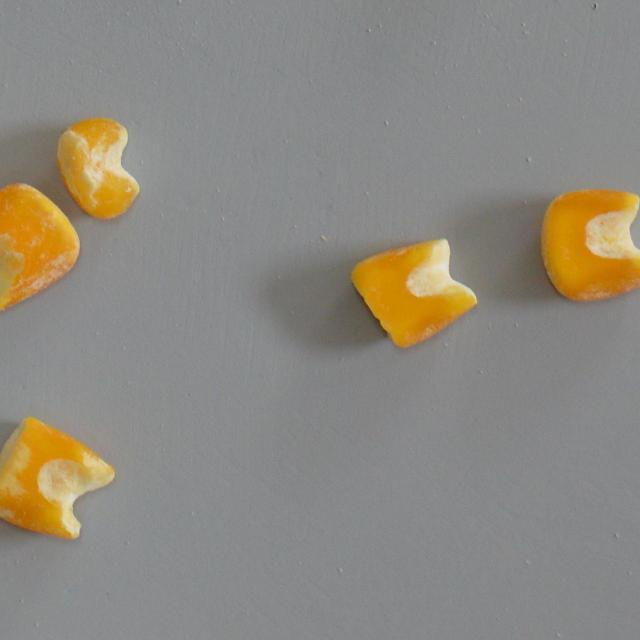dañado: (348, 228, 482, 356), (0, 410, 118, 545), (530, 177, 640, 308), (0, 175, 82, 317), (55, 112, 143, 224)
